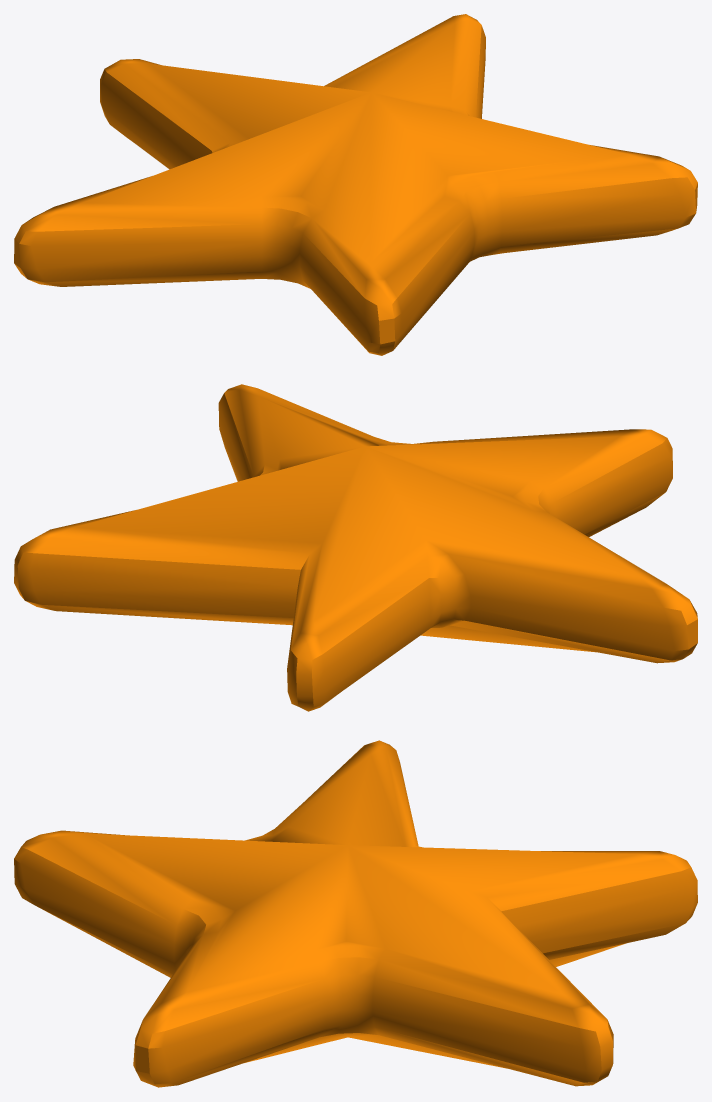
Rendered from zvezda7.fbx.
3 views of the same model, one above another, from view 1: azimuth 30°, elevation 25°; view 2: azimuth 150°, elevation 25°; view 3: azimuth 270°, elevation 25° (orthographic). The views are drawn at different scales.
Parts seen in each view (by area): view 1: zvezda7; view 2: zvezda7; view 3: zvezda7.
Boxes of the visible parts, x1,y1,x2,y2 form: zvezda7: (14,14,697,355); zvezda7: (14,384,697,711); zvezda7: (14,740,697,1087).
Size of the model in its own units: 42.28 by 12.78 by 41.21.
